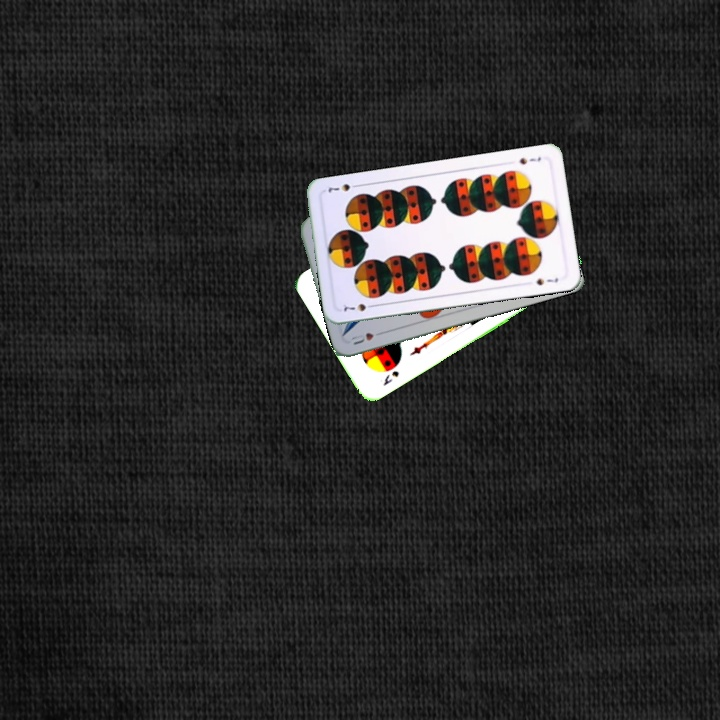HU: (347, 327, 386, 347)
S7: (340, 299, 378, 314), (515, 153, 543, 167)
SK: (379, 366, 402, 388)
